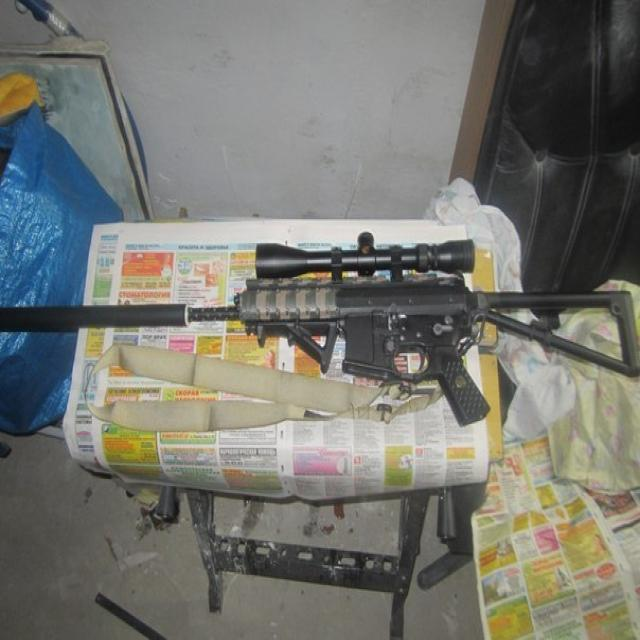firearm: (0, 230, 640, 428)
